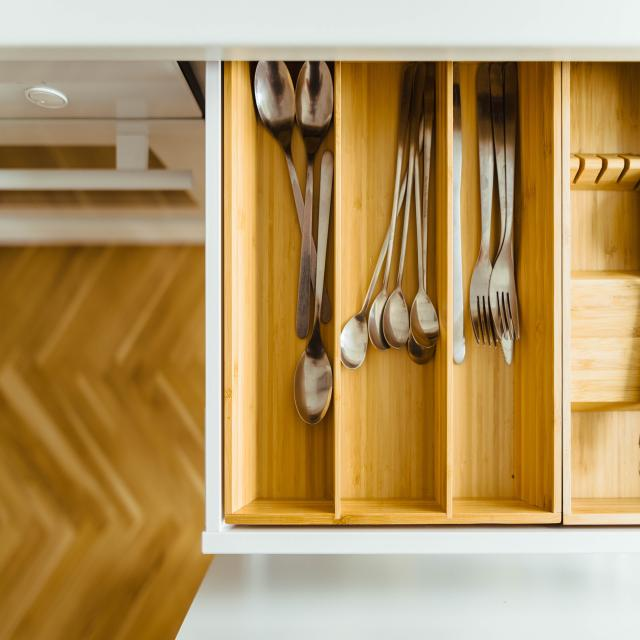Metal: (246, 61, 334, 423), (345, 61, 442, 375), (452, 64, 520, 371)
